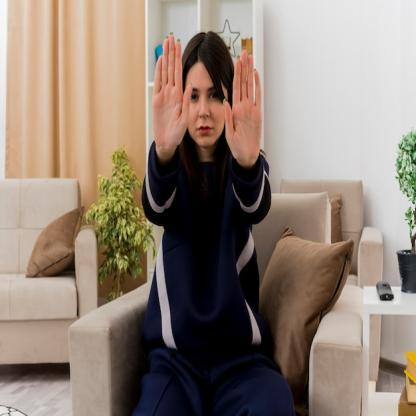stop: (220, 44, 267, 171), (151, 28, 195, 162)
